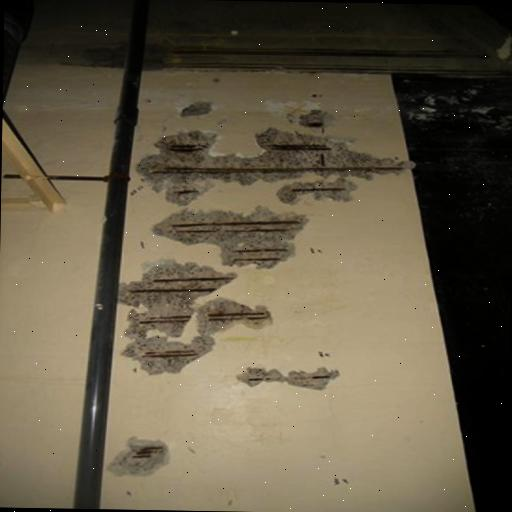spalling: (132, 126, 408, 204), (117, 260, 276, 379), (151, 206, 307, 266), (236, 366, 338, 394), (107, 442, 168, 479)
